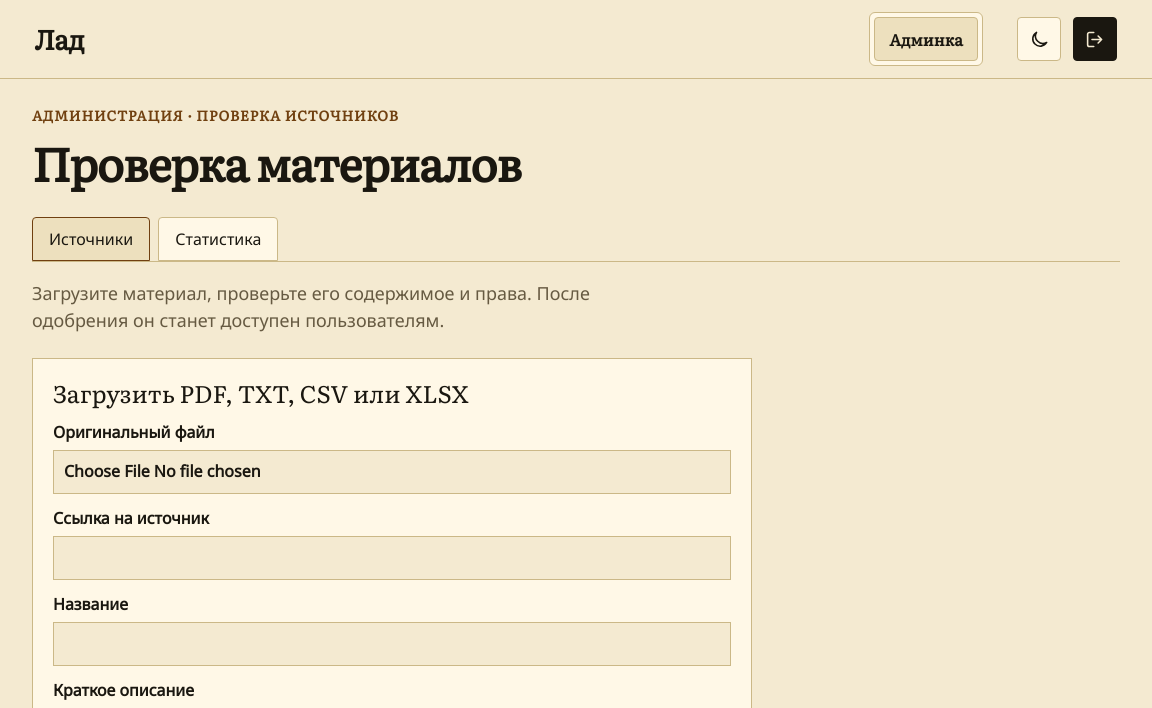
Test: legacy unsafe source URL is displayed as text in admin review
Click the button "Админка" at (926, 39), box [874,17,978,61]
(page scrolled)
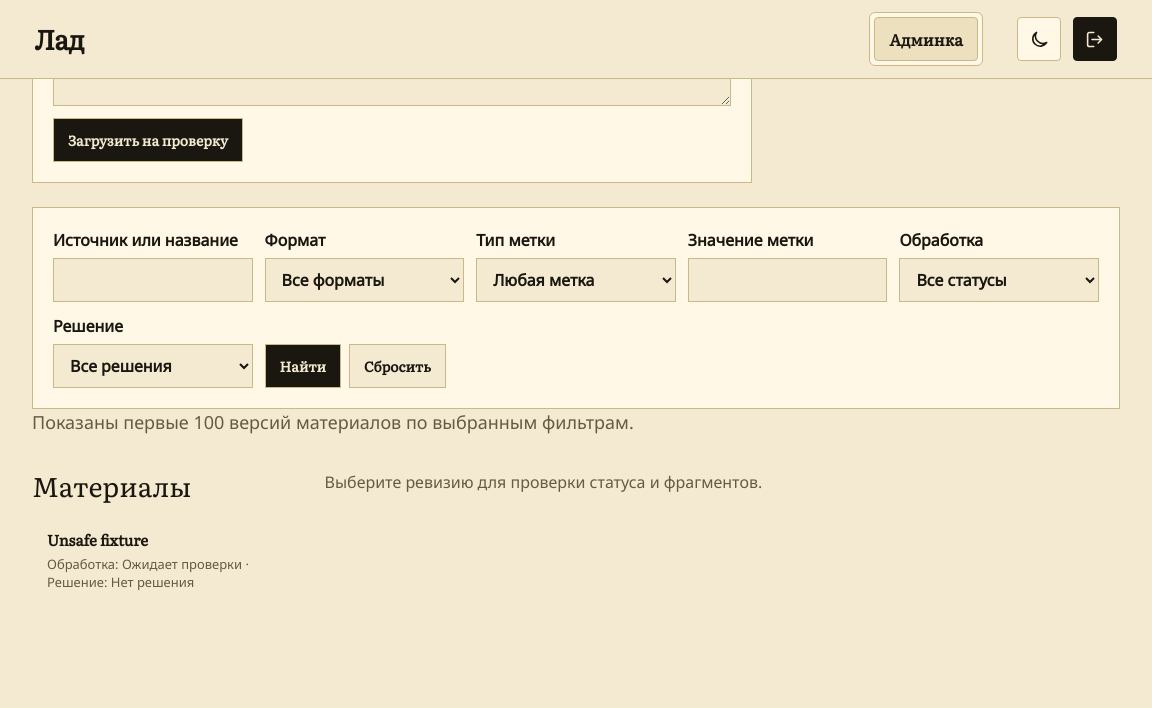
Click the button "Unsafe fixture" at (161, 560), box [32,517,290,604]
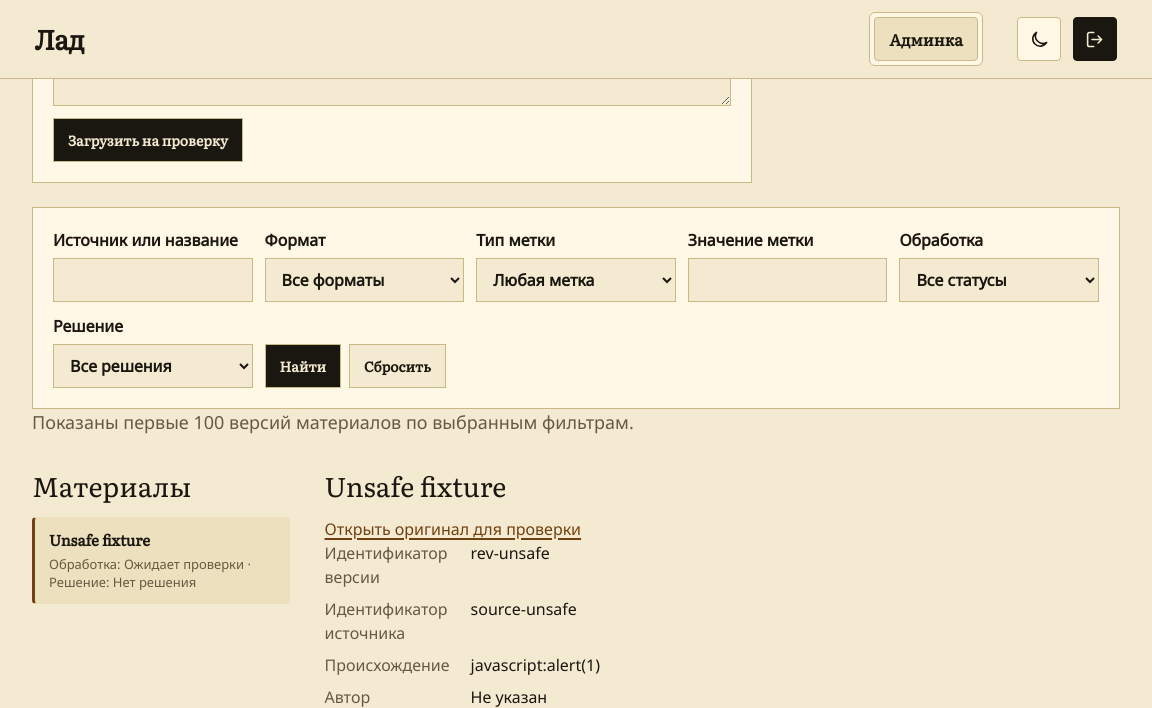
Expected: the text "javascript:alert(1)" is shown, [470,654,600,676]
